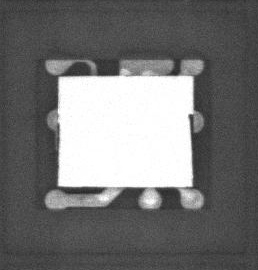DIE_BROKEN: (186, 113, 194, 146)
